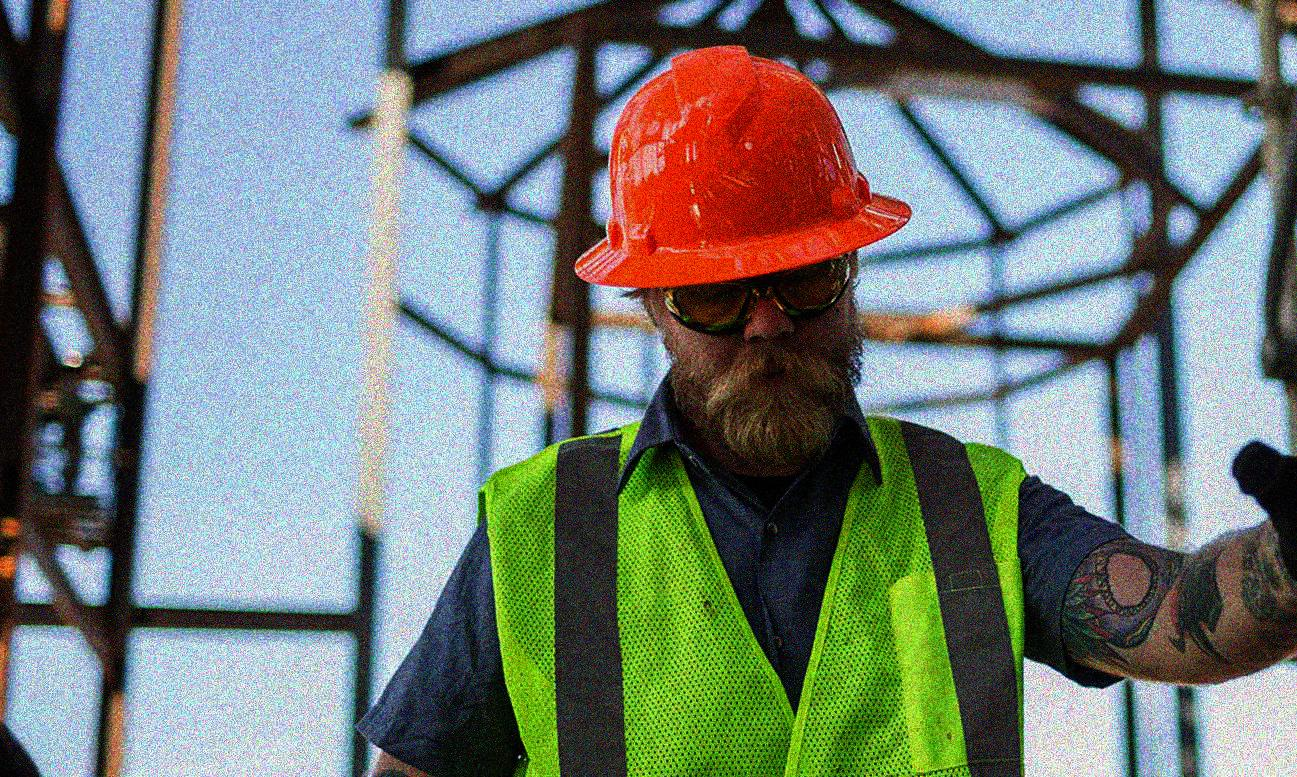helmet: (574, 39, 913, 471)
